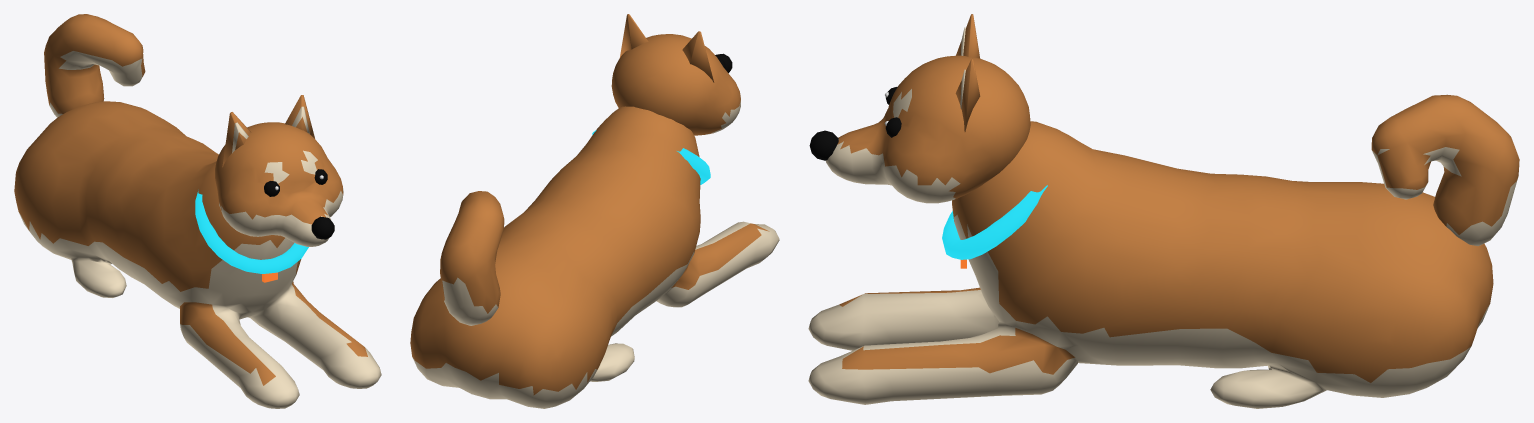
The model's file is Pet_Dog_Lying.glb.
3 renders of one model, left to right at view 1: azimuth 30°, elevation 25°; view 2: azimuth 150°, elevation 25°; view 3: azimuth 270°, elevation 25°, orthographic. The views are drawn at different scales.
Parts seen in each view (by area): view 1: Pet_Dog_Lying, DogLie_Head, DogLie_Tail; view 2: Pet_Dog_Lying, DogLie_Head, DogLie_Tail; view 3: Pet_Dog_Lying, DogLie_Head, DogLie_Tail.
Boxes of the visible parts, box(x1,y1,x2,y2) form: Pet_Dog_Lying: box(14, 101, 381, 408); DogLie_Head: box(215, 95, 343, 246); DogLie_Tail: box(44, 14, 145, 117); Pet_Dog_Lying: box(410, 106, 779, 408); DogLie_Head: box(611, 14, 740, 135); DogLie_Tail: box(440, 191, 504, 325); Pet_Dog_Lying: box(808, 121, 1493, 408); DogLie_Head: box(809, 14, 1030, 203); DogLie_Tail: box(1371, 94, 1519, 246).
Size of the model in its own units: 0.2373 by 0.3633 by 0.6919.
